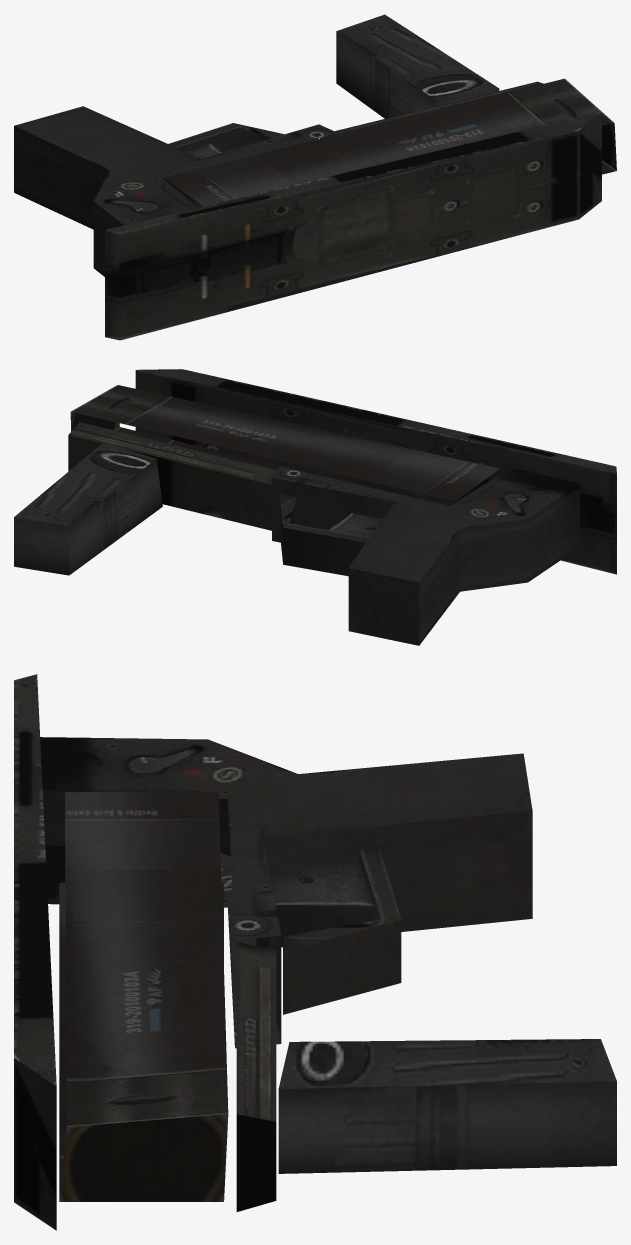
File: t6_attach_gl_m320_world_LOD2.obj
3 views of the same model, one above another, from view 1: azimuth 30°, elevation 25°; view 2: azimuth 150°, elevation 25°; view 3: azimuth 270°, elevation 25° (orthographic). The views are drawn at different scales.
Parts seen in each view (by area): view 1: mtl_t6_attach_gl_m320; view 2: mtl_t6_attach_gl_m320; view 3: mtl_t6_attach_gl_m320.
Part boxes in pixels (<box>): mtl_t6_attach_gl_m320: <box>14,14,616,340</box>; mtl_t6_attach_gl_m320: <box>14,369,616,645</box>; mtl_t6_attach_gl_m320: <box>14,674,616,1230</box>.
Bounding box in the file's own units: 27.65 × 5.46 × 17.18.
